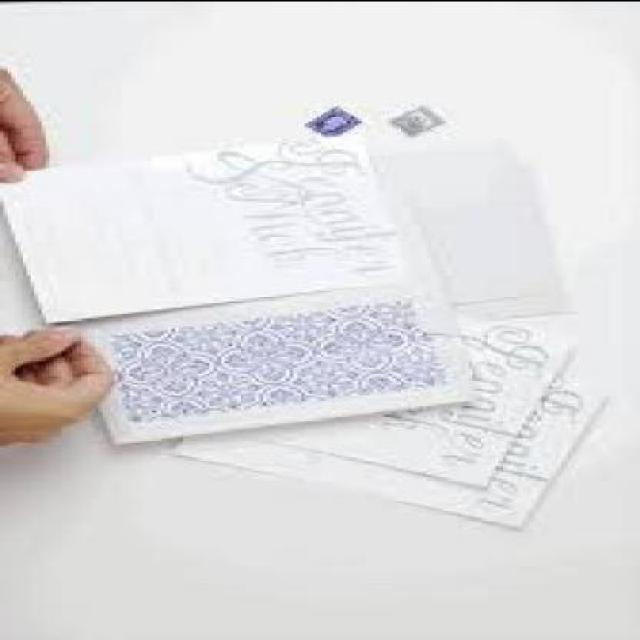PAPER: (65, 239, 477, 441), (3, 127, 415, 321), (175, 368, 614, 527), (187, 316, 579, 482), (324, 134, 579, 314), (305, 102, 366, 133), (388, 103, 450, 131)
